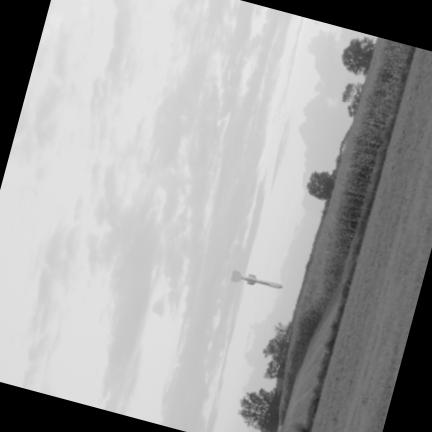Shahed: (230, 270, 281, 287)
